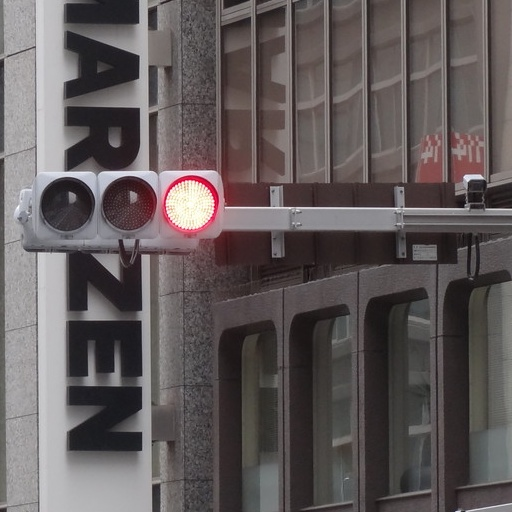Traffic_Signal_Red: (34, 164, 222, 241)
